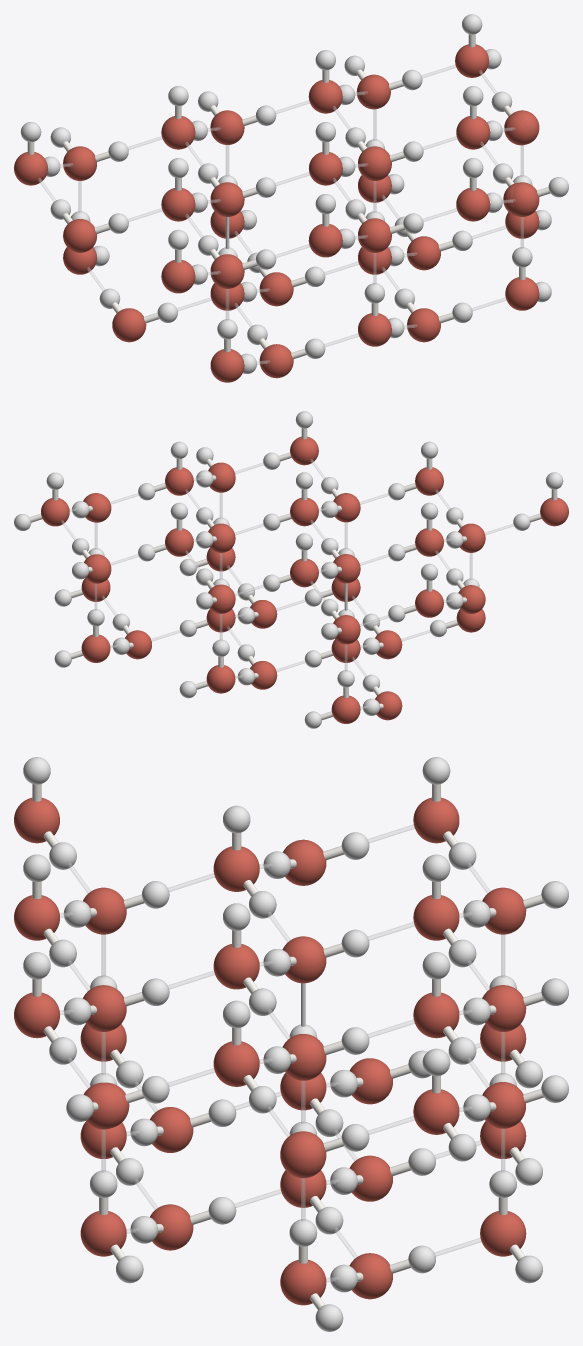
File: s058_4.11_struktura_ledu.glb
3 views of the same model, one above another, from view 1: azimuth 30°, elevation 25°; view 2: azimuth 150°, elevation 25°; view 3: azimuth 270°, elevation 25° (orthographic). The views are drawn at different scales.
Visible parts, largest first — view 1: Sphere (×34); view 2: Sphere (×31); view 3: Sphere (×33).
Part boxes in pixels (x1=…): Sphere (×34): x1=14, y1=44, x2=539, y2=382; Sphere (×31): x1=41, y1=436, x2=568, y2=723; Sphere (×33): x1=14, y1=797, x2=526, y2=1305.
Size of the model in its own units: 3.36 by 1.41 by 2.41.
